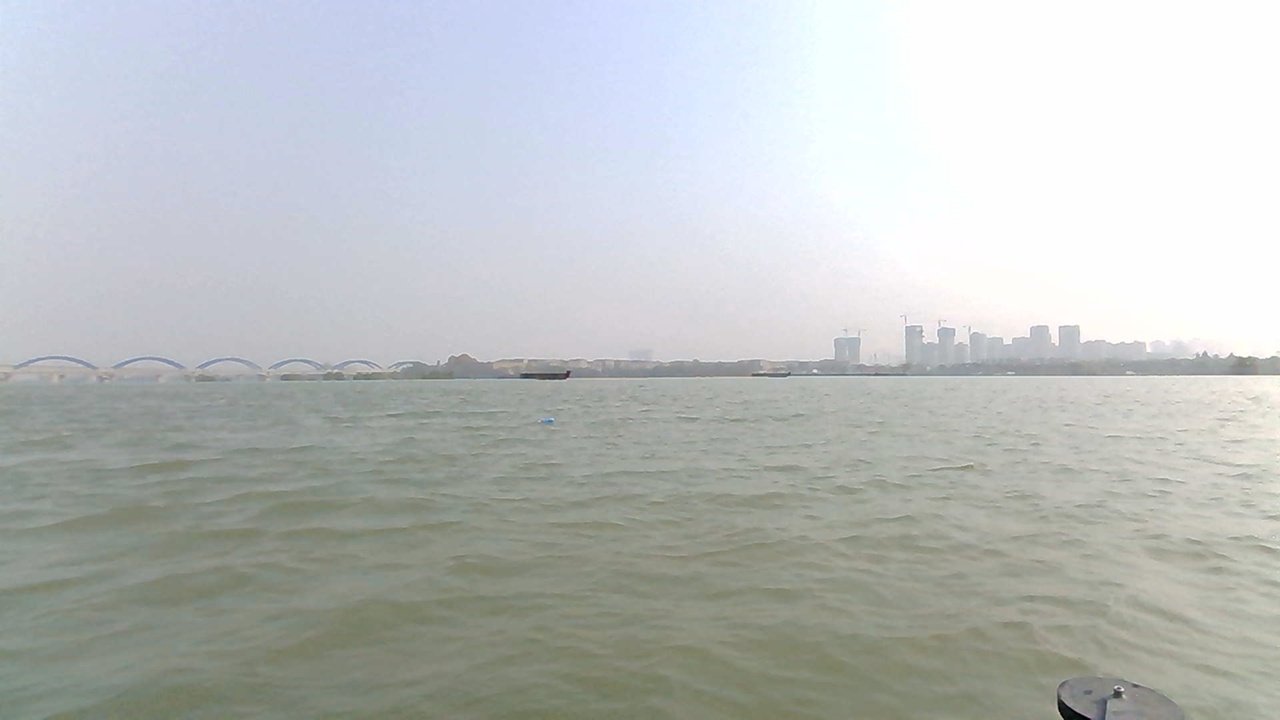bottle: (532, 414, 560, 427)
